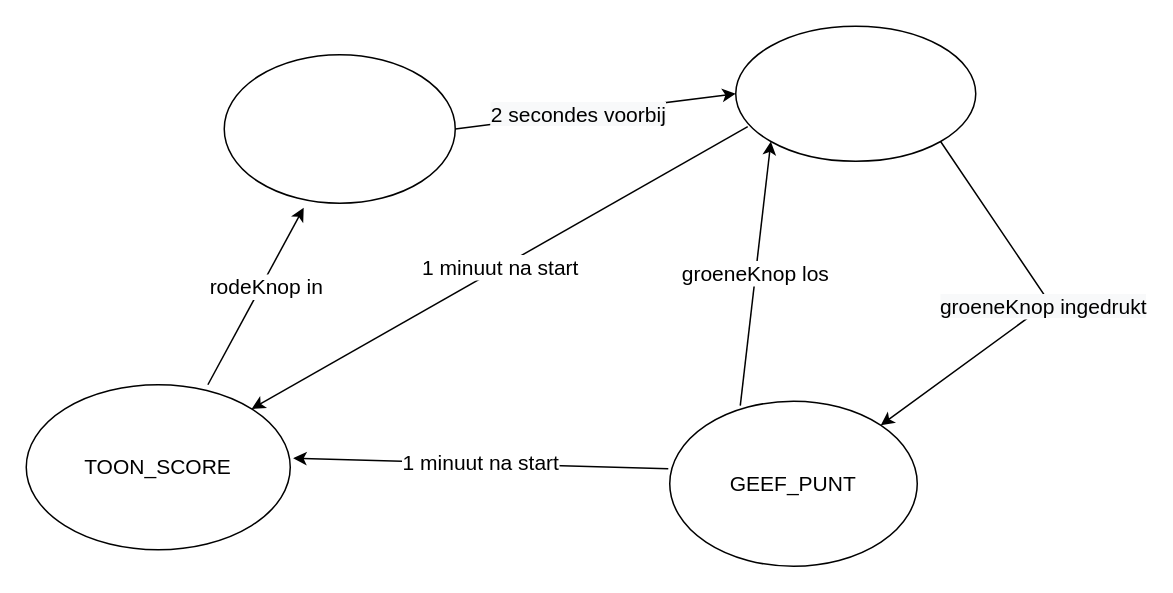
The diagram is 1173 pixels wide and 593 high, and some of its shapes have lost their labels. Each missing label, with the centre of its shape:
"STARTSIGNAAL" belongs at point (339, 128).
"WACHT_OP_KNOP_IN" belongs at point (855, 93).
